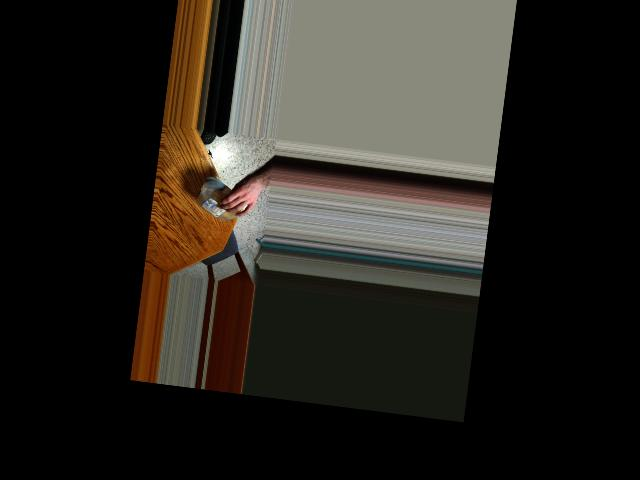cheese: (198, 187, 242, 220)
